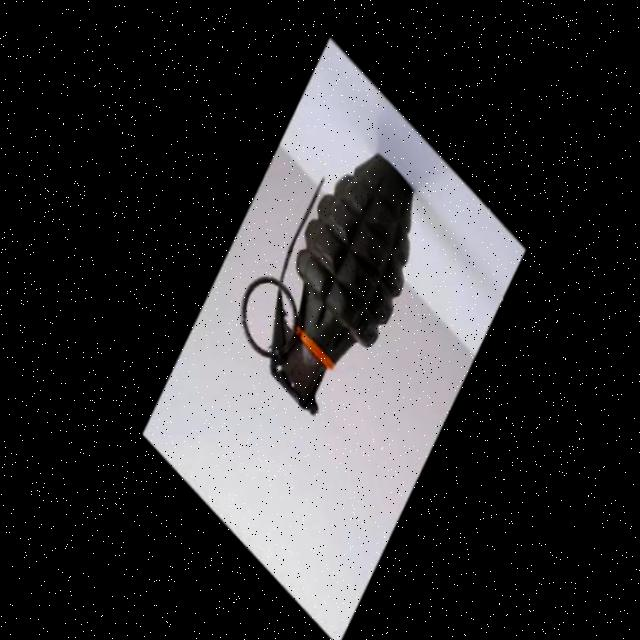grenade: (191, 128, 478, 428)
